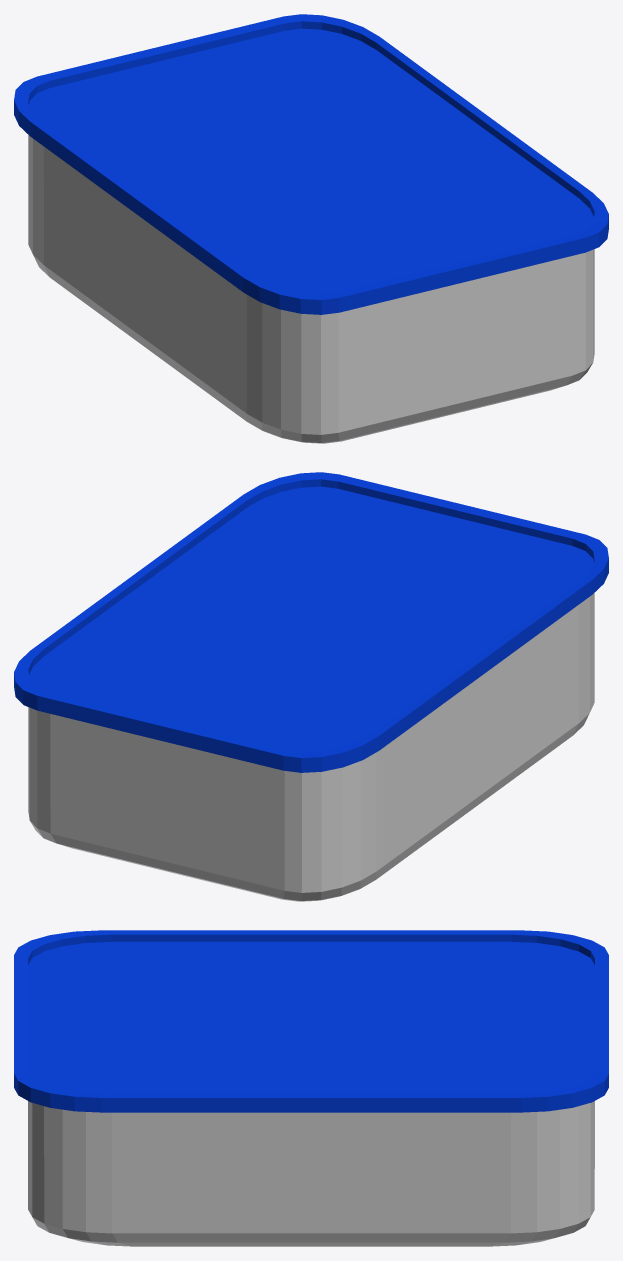
File: bekas.fbx
3 views of the same model, one above another, from view 1: azimuth 30°, elevation 25°; view 2: azimuth 150°, elevation 25°; view 3: azimuth 270°, elevation 25° (orthographic).
Parts seen in each view (by area): view 1: plastic_container; view 2: plastic_container; view 3: plastic_container.
Part boxes in pixels (x1,y1,x2,y2): plastic_container: (14,14,608,443); plastic_container: (14,472,608,901); plastic_container: (14,930,608,1246).
Bounding box in the file's own units: 25.2 × 11.27 × 37.8.
